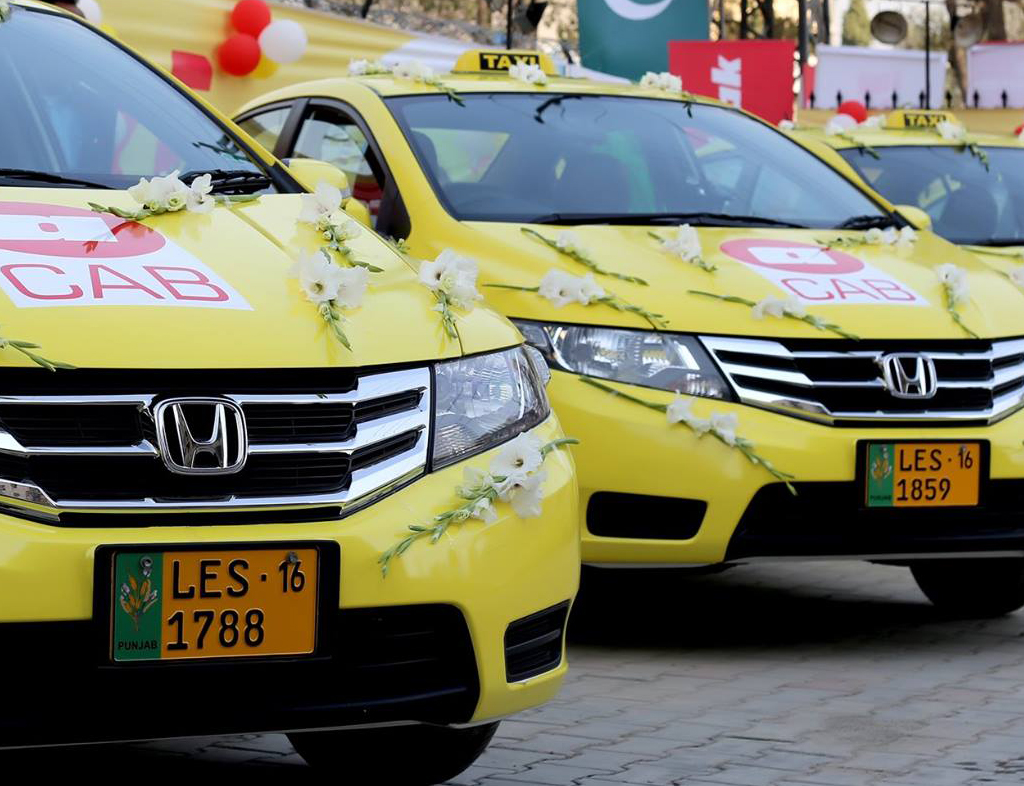Number Plate (Car): (103, 548, 318, 660), (860, 443, 981, 507)
